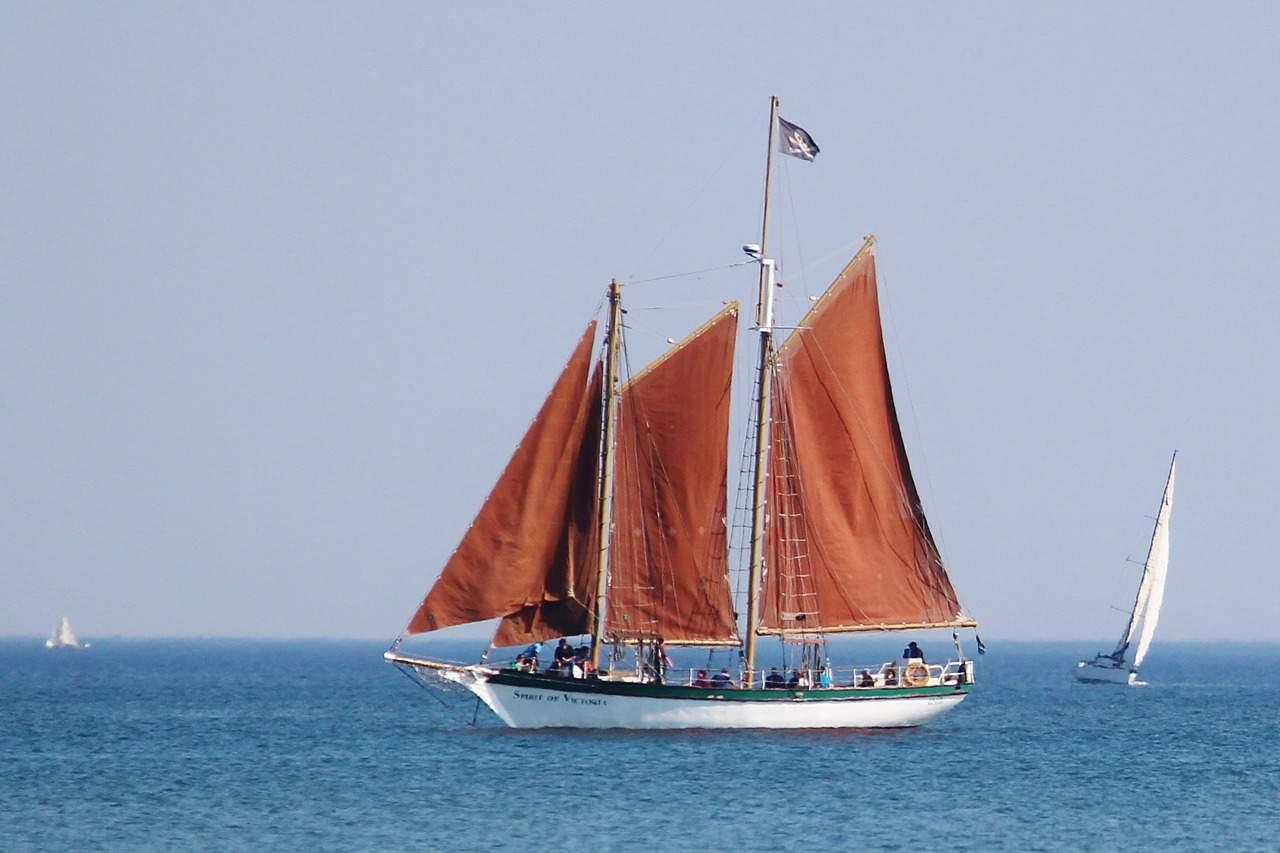Ship: (387, 97, 984, 735), (1071, 448, 1191, 689)
